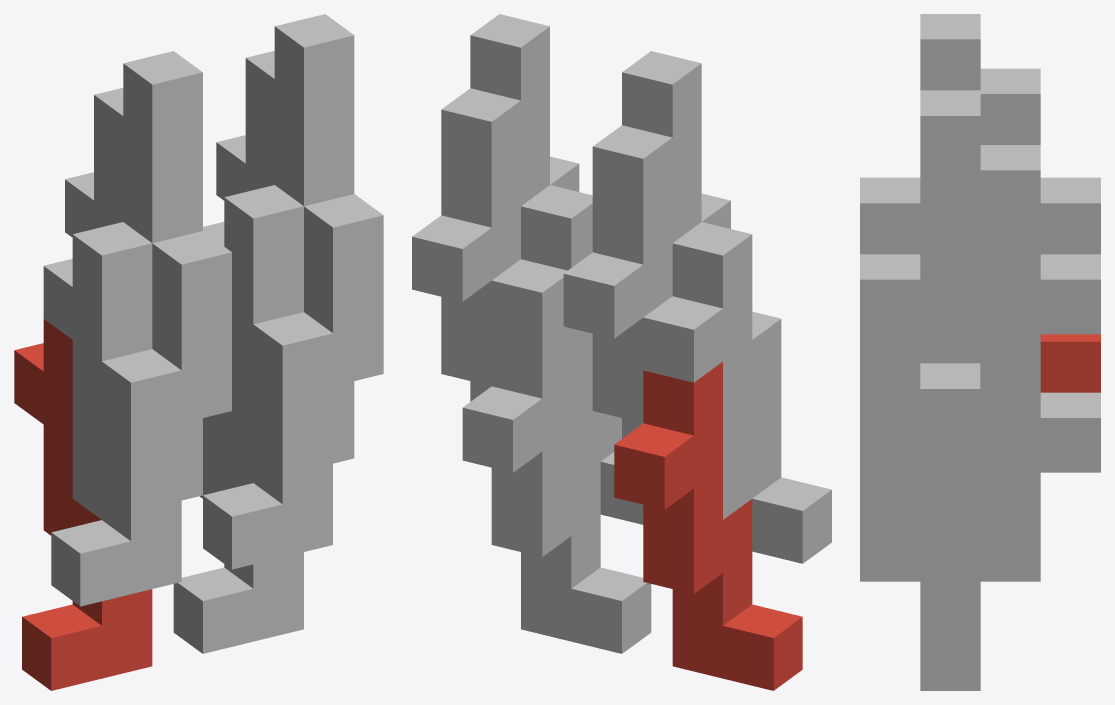
File: tiling.obj
The picture shows the model from 3 angles, left to right: view 1: azimuth 30°, elevation 25°; view 2: azimuth 150°, elevation 25°; view 3: azimuth 270°, elevation 25°; orthographic projection. The views are drawn at different scales.
Visible parts, largest first — view 1: copy_1_domain_8, copy_1_domain_4, copy_1_domain_2, copy_1_domain_6, copy_1_domain_1, copy_1_domain_5, copy_1_domain_7, copy_1_domain_3; view 2: copy_1_domain_5, copy_1_domain_1, copy_1_domain_2, copy_1_domain_3, copy_1_domain_7, copy_1_domain_4, copy_1_domain_8, copy_1_domain_6; view 3: copy_1_domain_8, copy_1_domain_7, copy_1_domain_5, copy_1_domain_4, copy_1_domain_6, copy_1_domain_3, copy_1_domain_1.
Boxes of the visible parts, x1=… form: copy_1_domain_8: x1=245, y1=14, x2=383, y2=398; copy_1_domain_4: x1=94, y1=51, x2=231, y2=435; copy_1_domain_2: x1=43, y1=222, x2=181, y2=606; copy_1_domain_6: x1=203, y1=185, x2=332, y2=569; copy_1_domain_1: x1=14, y1=319, x2=152, y2=690; copy_1_domain_5: x1=173, y1=413, x2=303, y2=653; copy_1_domain_7: x1=216, y1=111, x2=354, y2=482; copy_1_domain_3: x1=65, y1=148, x2=202, y2=519; copy_1_domain_5: x1=462, y1=327, x2=651, y2=653; copy_1_domain_1: x1=614, y1=361, x2=802, y2=690; copy_1_domain_2: x1=643, y1=222, x2=831, y2=563; copy_1_domain_3: x1=563, y1=190, x2=752, y2=519; copy_1_domain_7: x1=412, y1=153, x2=600, y2=482; copy_1_domain_4: x1=592, y1=51, x2=781, y2=392; copy_1_domain_8: x1=441, y1=14, x2=579, y2=205; copy_1_domain_6: x1=491, y1=185, x2=643, y2=524; copy_1_domain_8: x1=860, y1=90, x2=1040, y2=443; copy_1_domain_7: x1=920, y1=225, x2=1100, y2=552; copy_1_domain_5: x1=920, y1=392, x2=1100, y2=690; copy_1_domain_4: x1=860, y1=14, x2=1040, y2=254; copy_1_domain_6: x1=860, y1=334, x2=980, y2=581; copy_1_domain_3: x1=1040, y1=177, x2=1100, y2=254; copy_1_domain_1: x1=1040, y1=334, x2=1100, y2=392.
Size of the model in its own units: 6 by 11 by 4.
